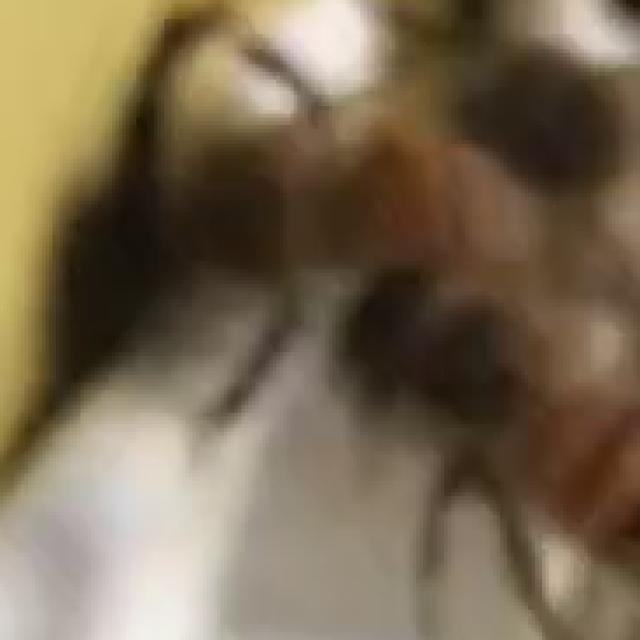honeybee: (360, 253, 640, 640), (51, 85, 476, 278), (409, 15, 640, 212)
